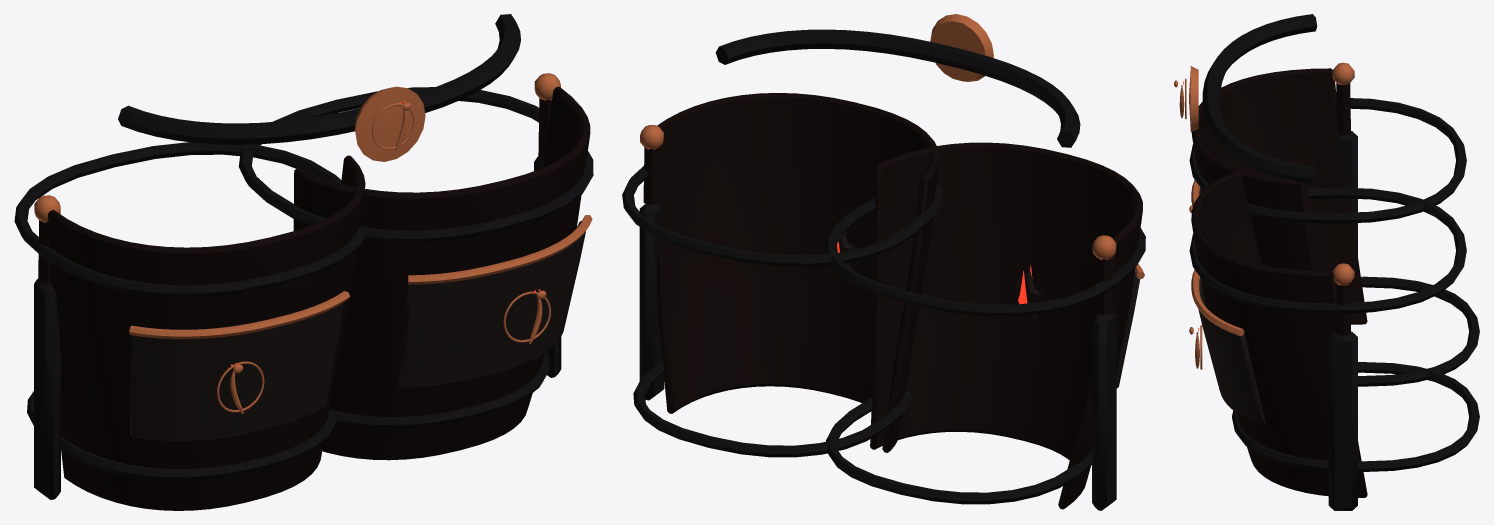
Rendered from asc_abyssal_fang_leggings.glb.
The picture shows the model from 3 angles, left to right: view 1: azimuth 30°, elevation 25°; view 2: azimuth 150°, elevation 25°; view 3: azimuth 270°, elevation 25°; orthographic projection. The views are drawn at different scales.
Parts seen in each view (by area): view 1: AT_thigh_R, AT_thigh_L, asc_abyssal_fang_leggings; view 2: AT_thigh_L, AT_thigh_R, asc_abyssal_fang_leggings; view 3: AT_thigh_L, AT_thigh_R, asc_abyssal_fang_leggings.
Part boxes in pixels (bbox=[...]): AT_thigh_R: bbox=[14, 142, 365, 510]; AT_thigh_L: bbox=[238, 73, 593, 460]; asc_abyssal_fang_leggings: bbox=[118, 14, 520, 161]; AT_thigh_L: bbox=[622, 93, 942, 457]; AT_thigh_R: bbox=[825, 142, 1145, 510]; asc_abyssal_fang_leggings: bbox=[715, 14, 1080, 324]; AT_thigh_L: bbox=[1189, 159, 1479, 510]; AT_thigh_R: bbox=[1189, 62, 1479, 386]; asc_abyssal_fang_leggings: bbox=[1174, 14, 1317, 183].
Size of the model in its own units: 0.5071 by 0.3851 by 0.3121.
